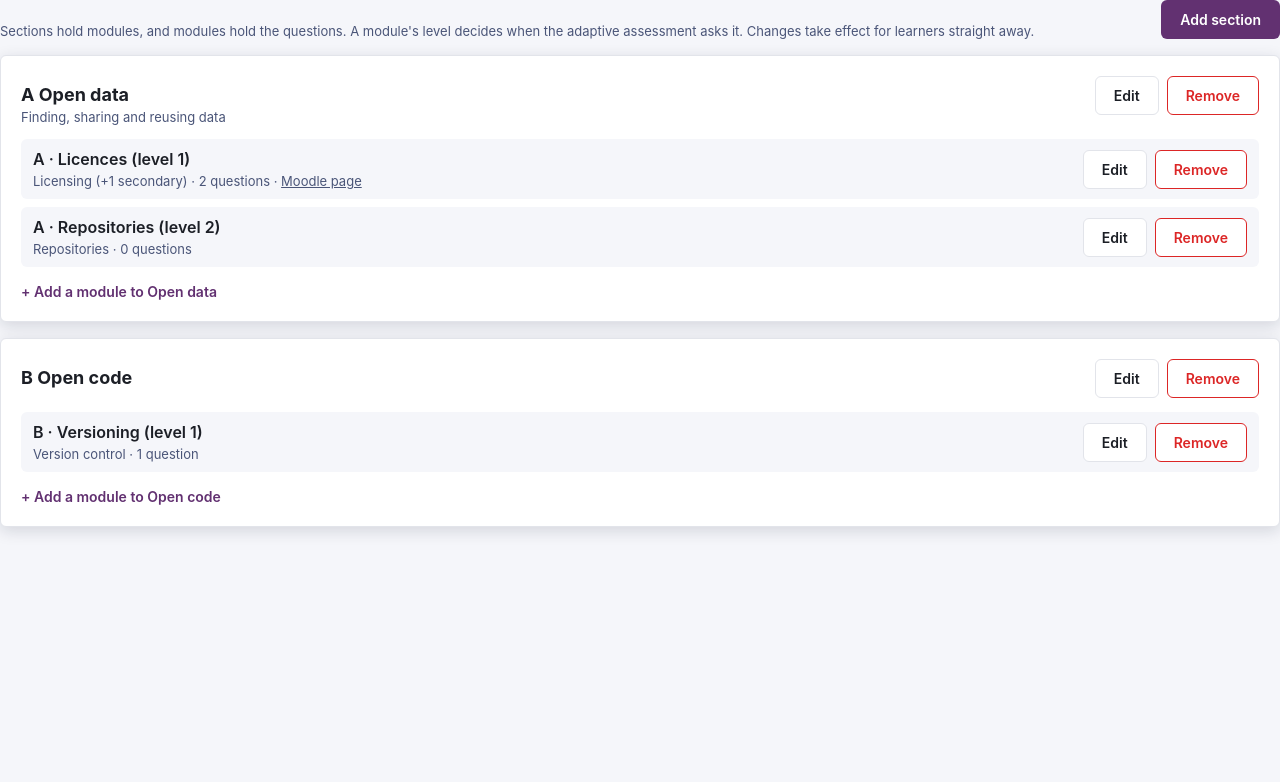
StructurePanel: modules › shows a general error when saving fails for another reason
The width and height of the screenshot is (1280, 782).
Click the button with aria-label "Edit Licences" at (1115, 169), box [1083,150,1147,188]
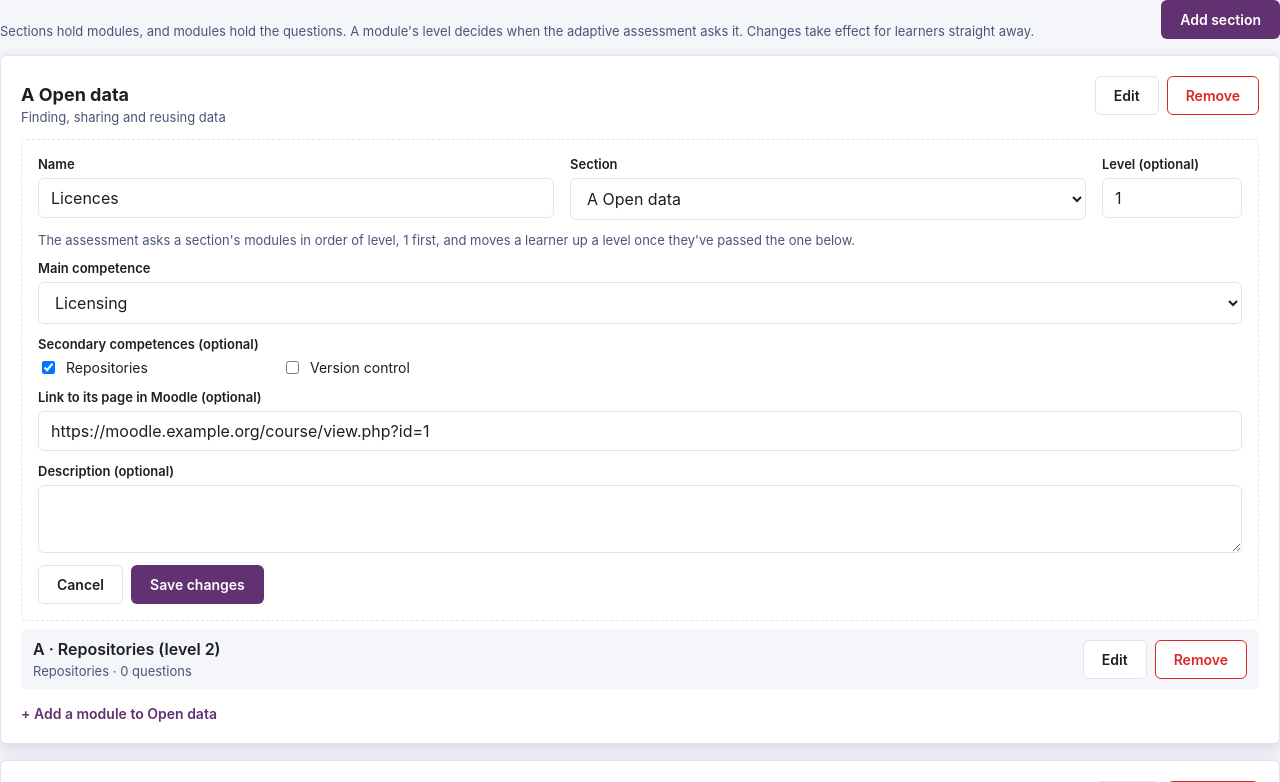
Click the button "Save changes" at (197, 584), box [131,565,264,604]
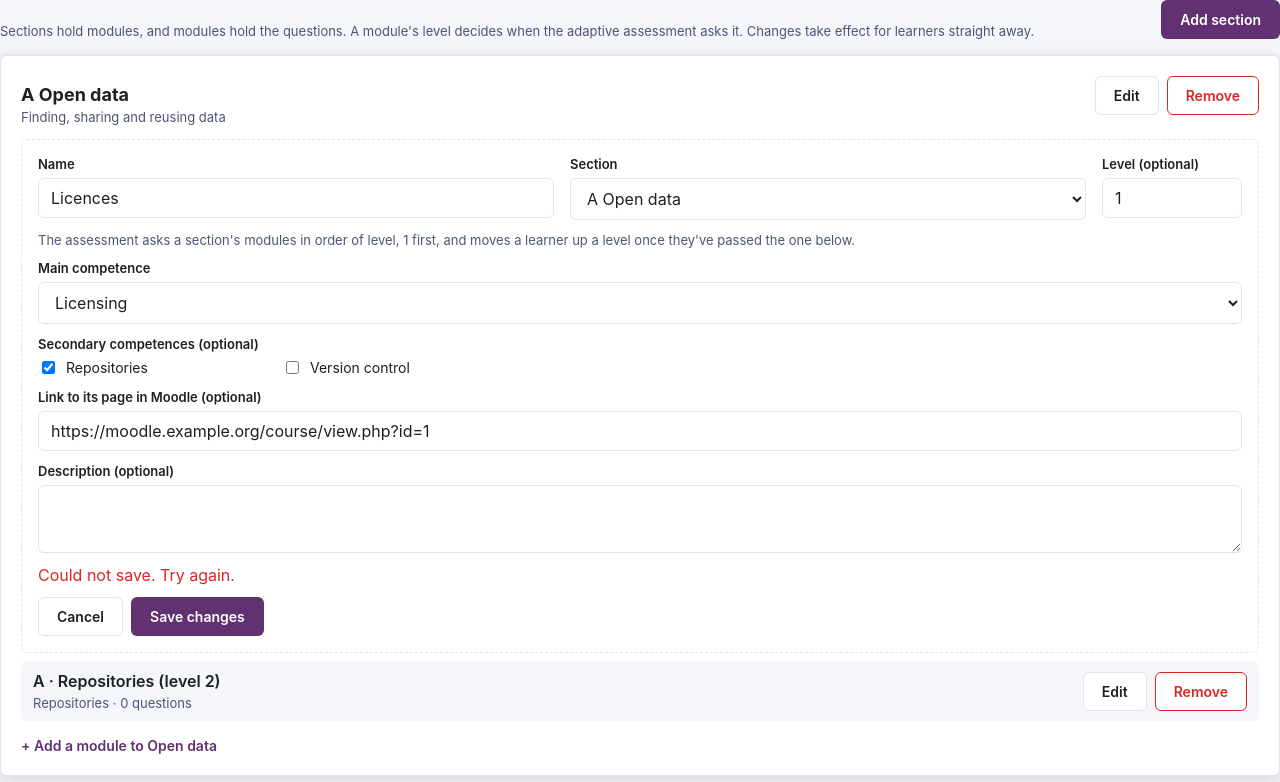
Check: the message shows "Could not save", box [38,565,235,585]
